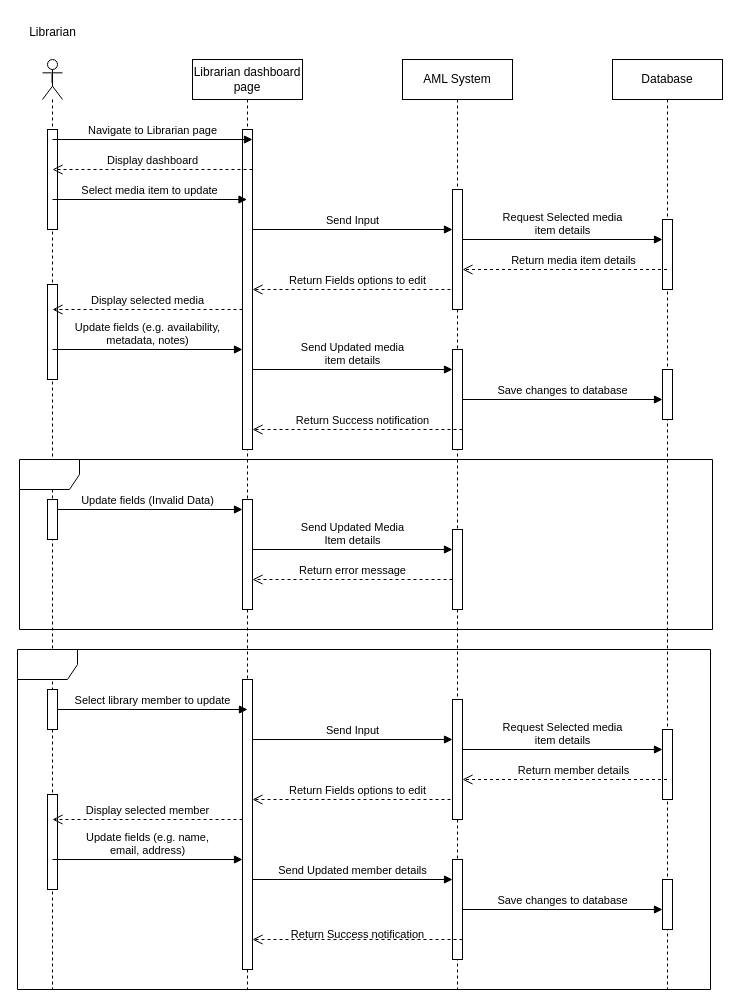
This 740x1007 diagram has some shape labels left out. Each missing label, with the centre of its shape:
"Alt 1" goes at pixel 365 544.
"Alt 2" goes at pixel 363 819.
